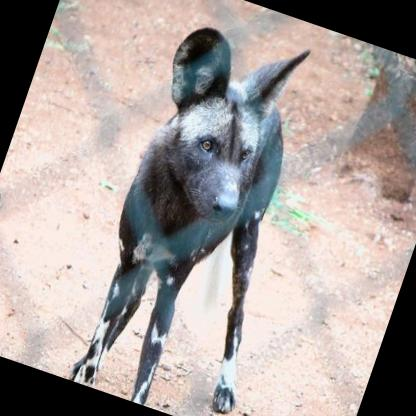African_hunting_dog: (63, 5, 355, 416)
